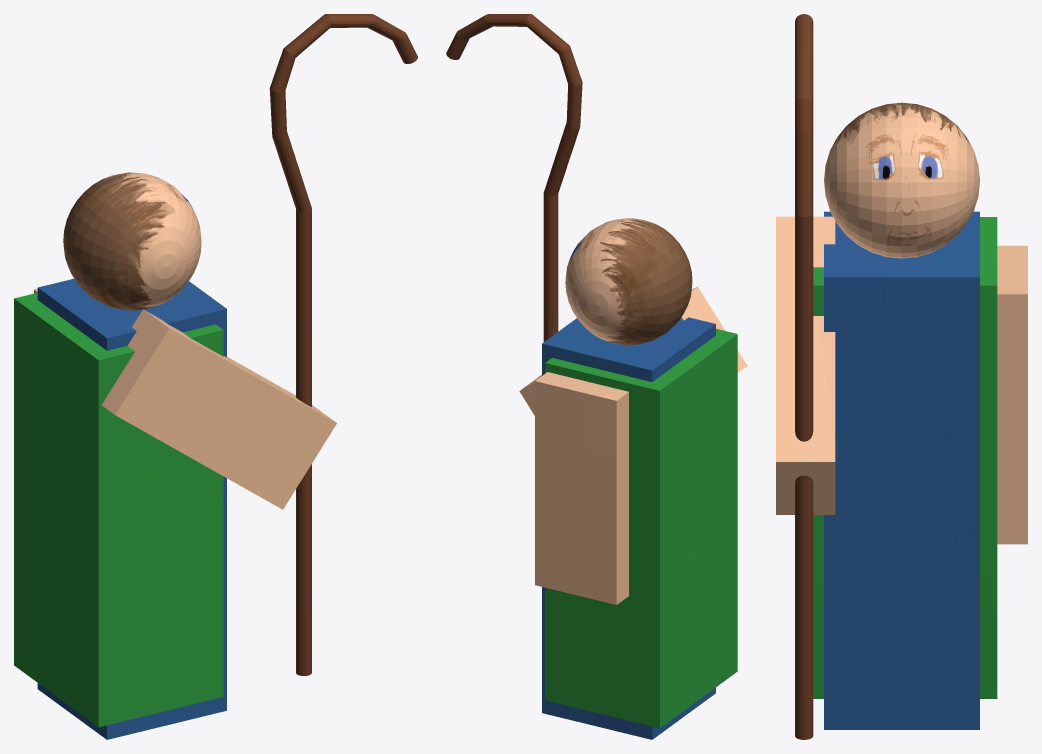
Rendered from shepherdC8.fbx.
The picture shows the model from 3 angles, left to right: view 1: azimuth 30°, elevation 25°; view 2: azimuth 150°, elevation 25°; view 3: azimuth 270°, elevation 25°; orthographic projection. The views are drawn at different scales.
Visible parts, largest first — view 1: Sphere; view 2: Sphere; view 3: Sphere.
Boxes of the visible parts, x1,y1,x2,y2 form: Sphere: (14,14,417,739); Sphere: (446,14,747,739); Sphere: (776,14,1027,739).
Size of the model in its own units: 528 by 1083 by 323.
1 material, 1 textured.
